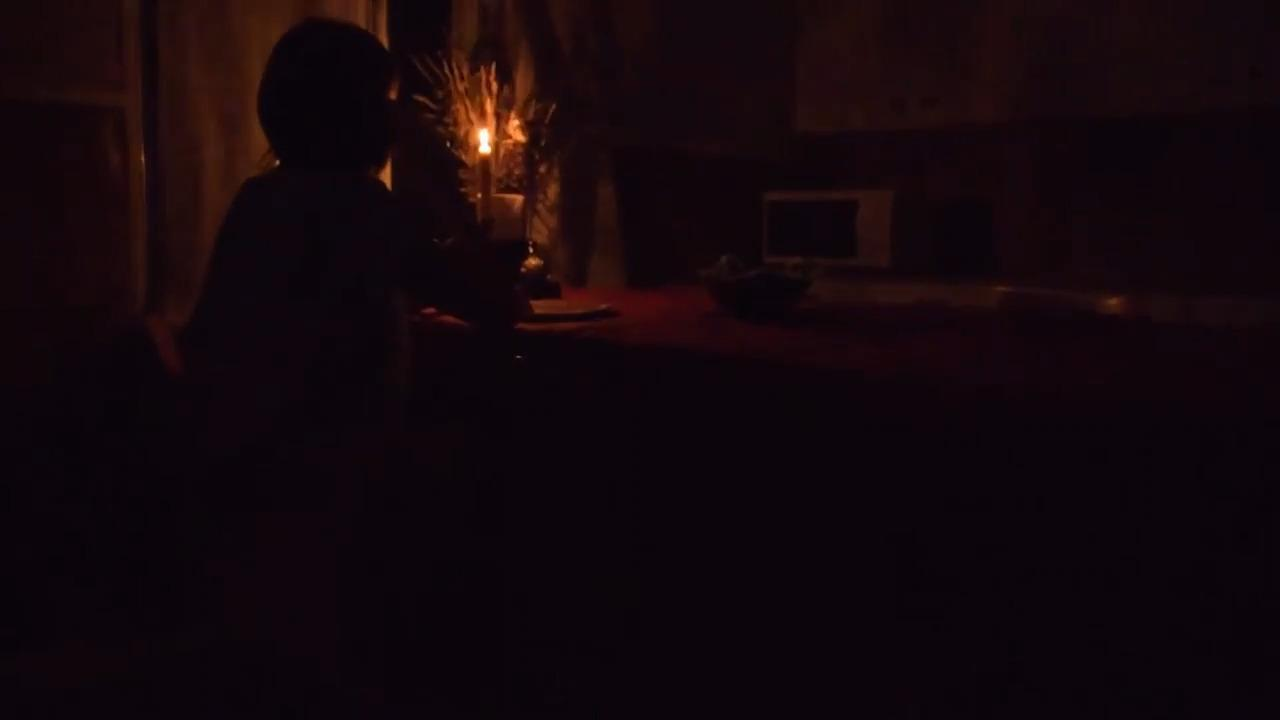fire: (476, 123, 494, 149)
